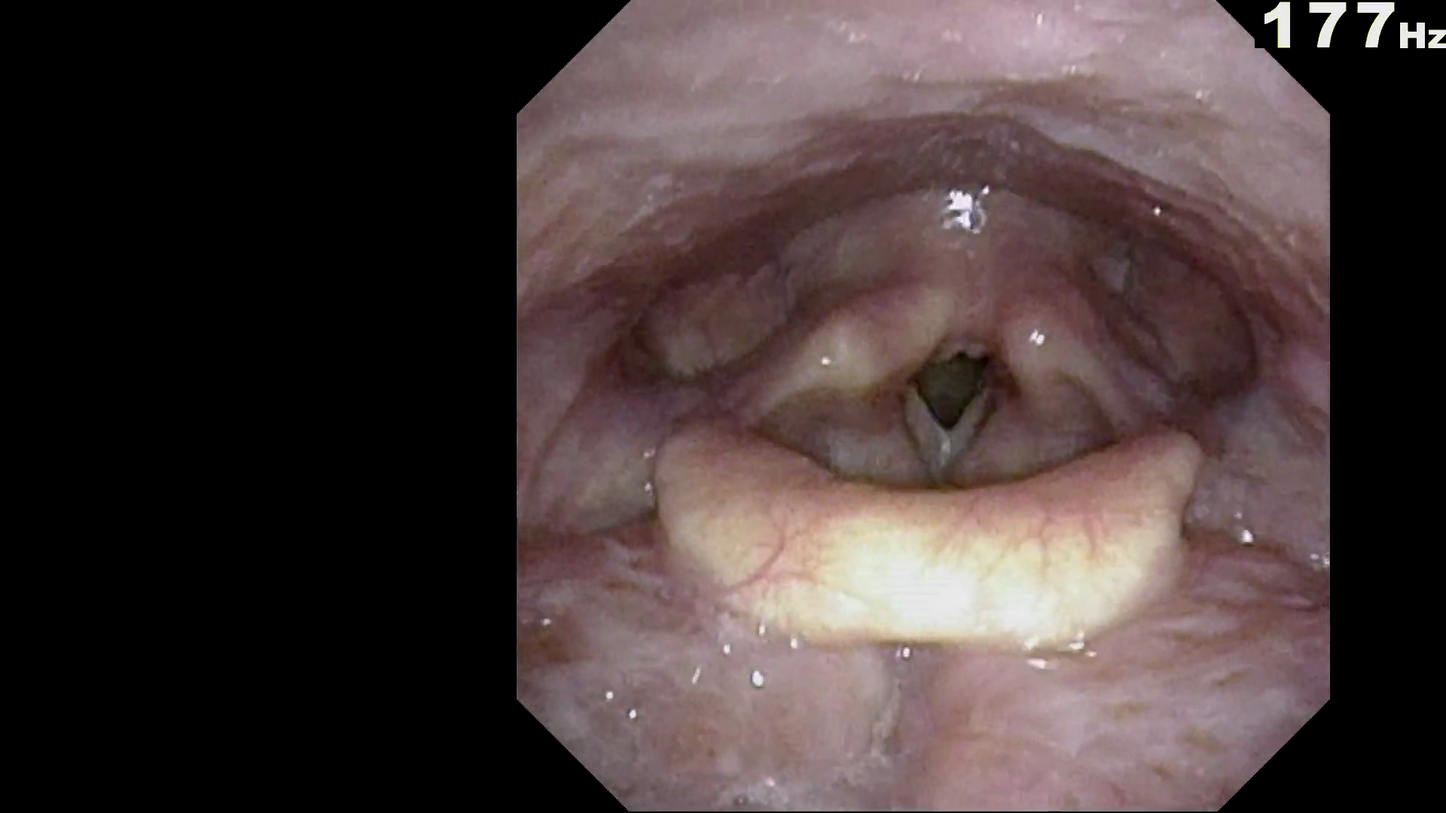epiglottis: (635, 403, 1216, 665)
trachea: (871, 276, 1041, 490)
